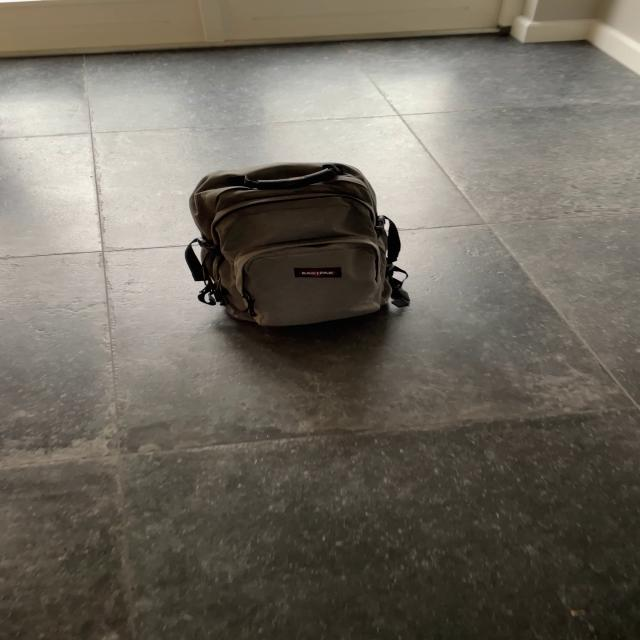backpack: (177, 155, 410, 333)
